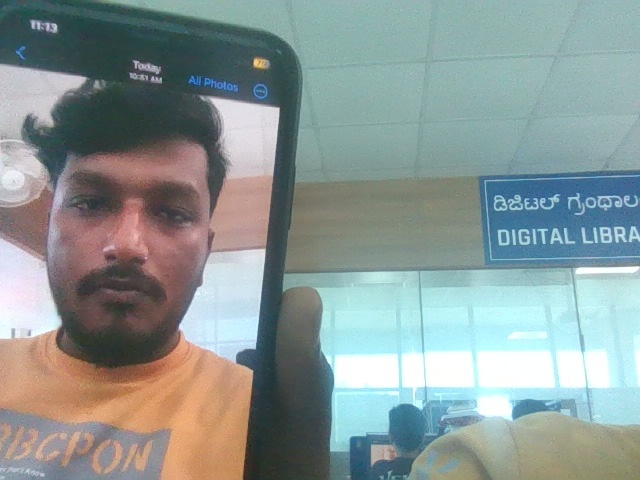fake: (20, 55, 243, 371)
